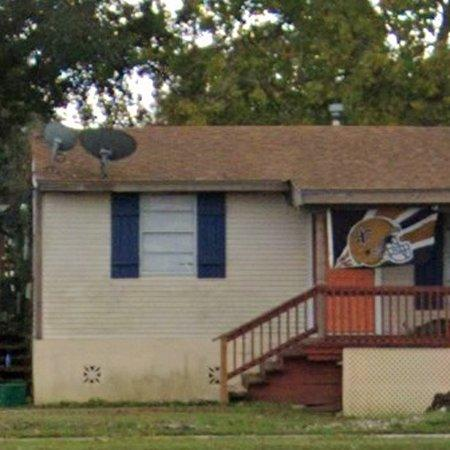stairs: (215, 286, 342, 402)
